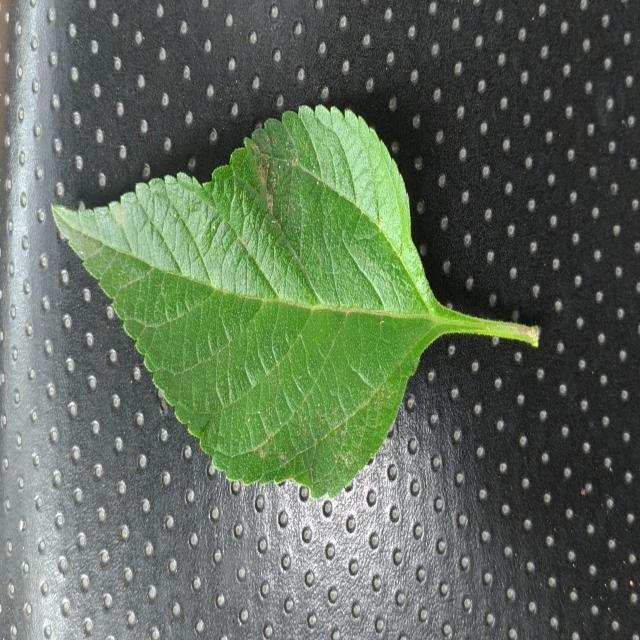Lantana: (52, 107, 516, 498)
